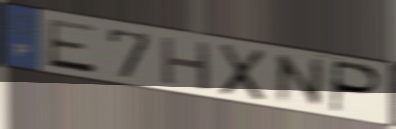7: (104, 26, 153, 80)
E: (45, 16, 98, 76)
H: (159, 33, 214, 93)
N: (273, 51, 328, 109)
P: (329, 58, 385, 116)
X: (218, 40, 268, 104)
